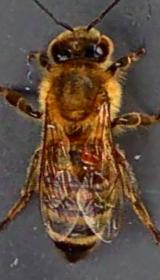varroa_mite: (76, 146, 102, 167)
